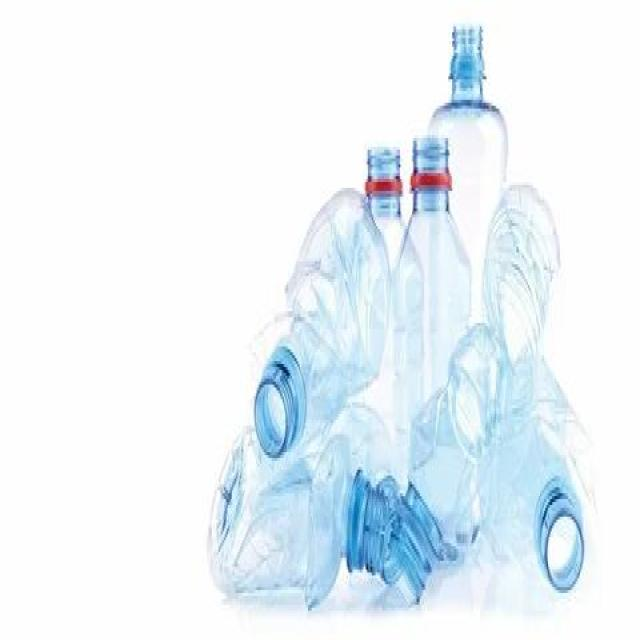blue: (390, 185, 558, 609), (255, 185, 392, 459), (210, 426, 384, 609), (485, 350, 593, 583), (402, 134, 471, 334), (428, 24, 505, 152)
